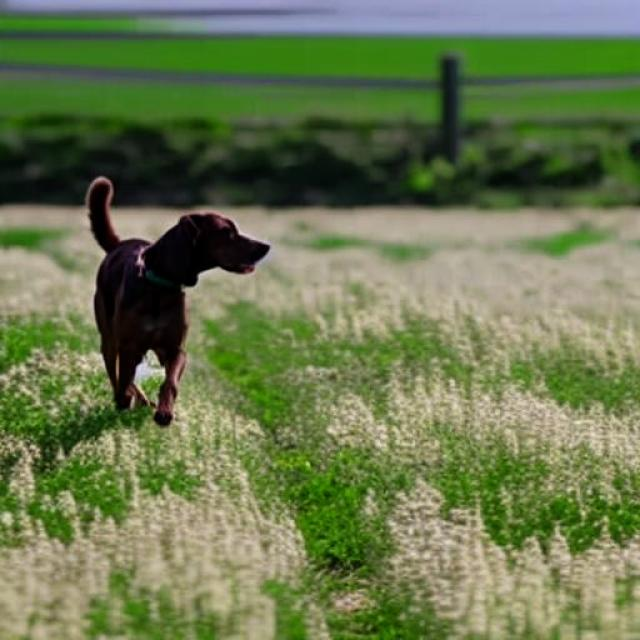Dog: (85, 175, 271, 428)
